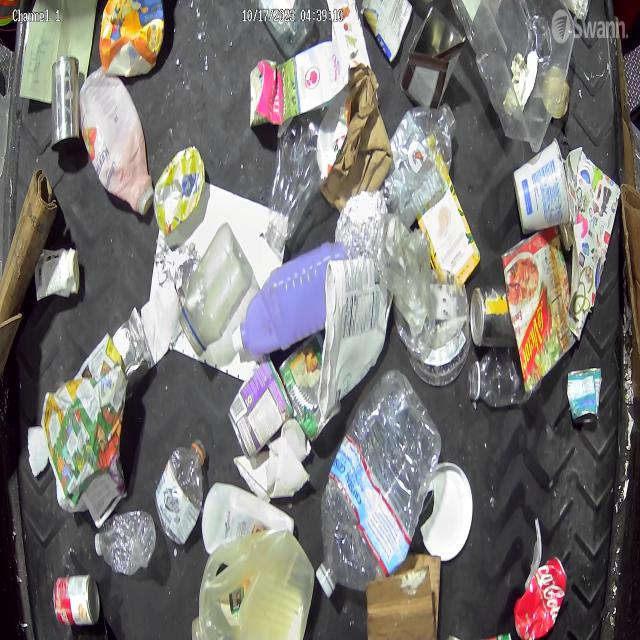can: (277, 344, 331, 441), (513, 555, 568, 640), (112, 306, 152, 388), (51, 55, 80, 153), (468, 284, 511, 347), (53, 574, 100, 626), (566, 366, 604, 427)
milk_jug: (195, 531, 318, 638), (201, 482, 296, 554)
non_white_jug: (232, 240, 346, 356)
plastic_bottle: (321, 371, 438, 595), (156, 438, 210, 546), (94, 511, 157, 578), (467, 352, 532, 409)
